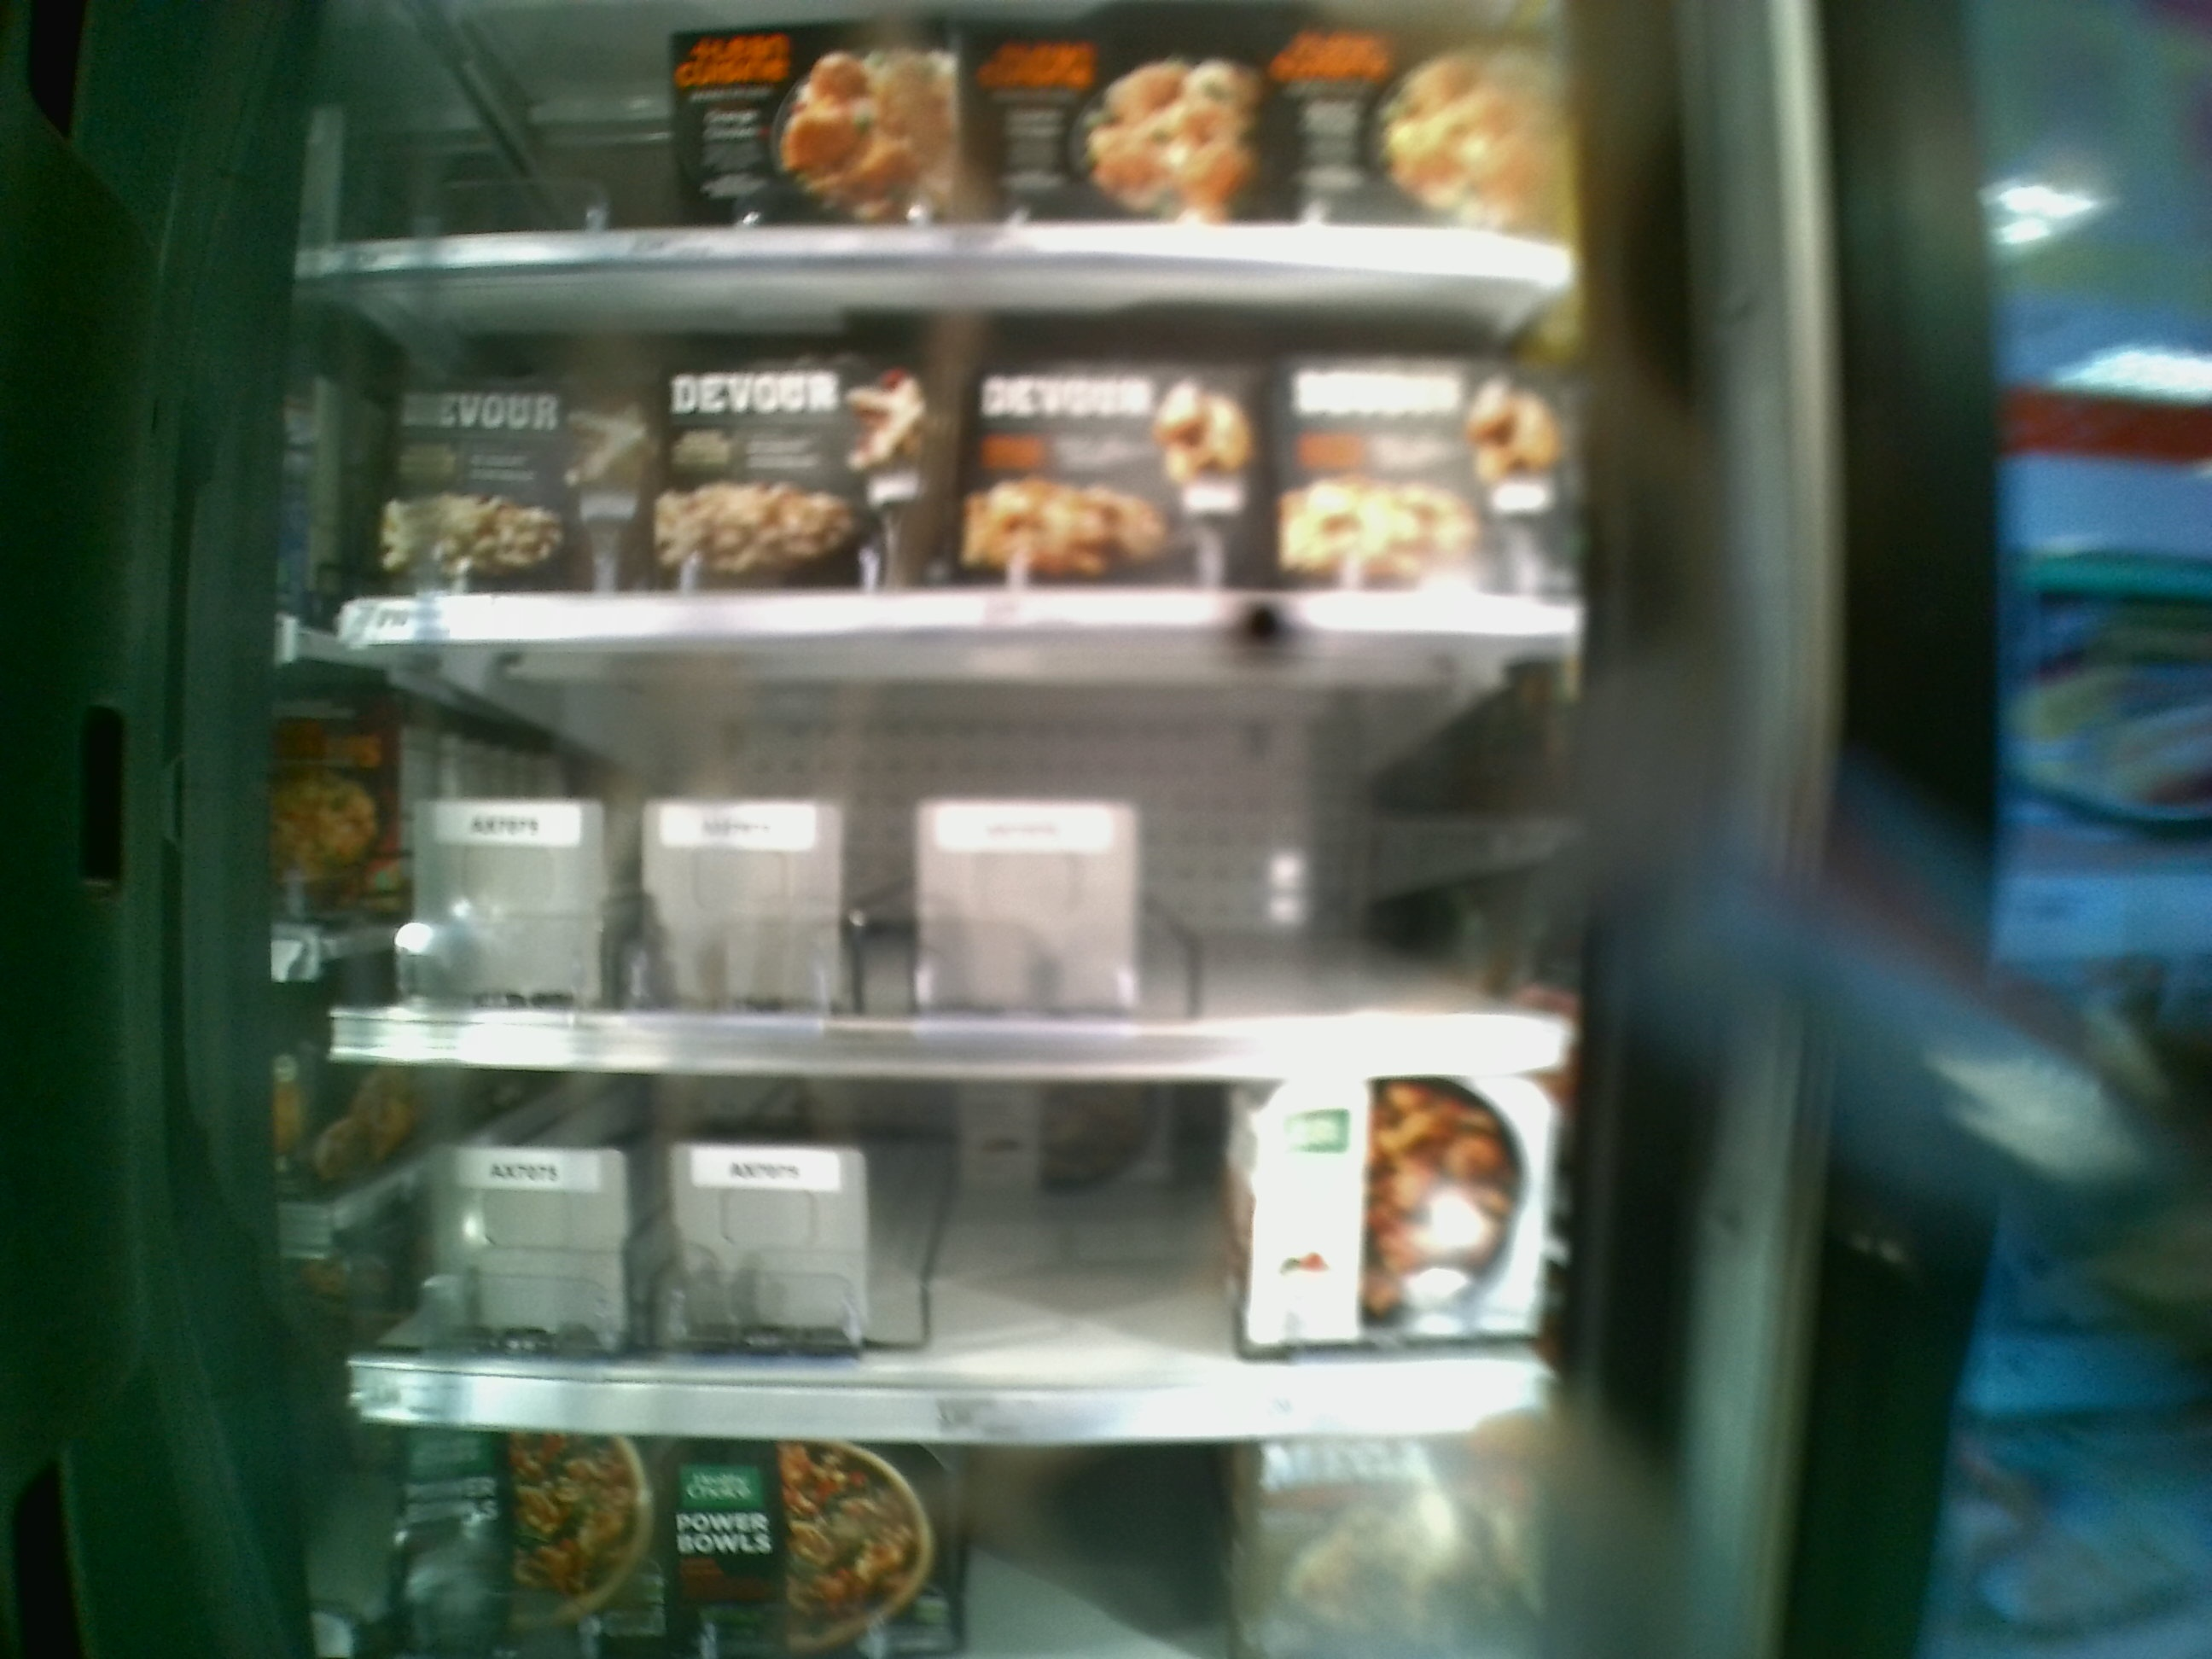shelf: (324, 631, 1583, 1075), (296, 251, 1590, 638), (303, 1065, 1566, 1436)
